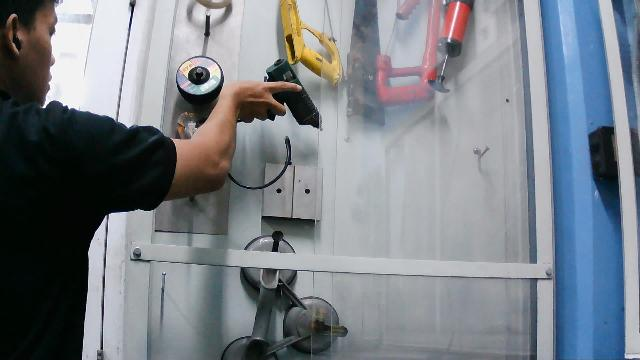gun_lem: (237, 57, 326, 135)
